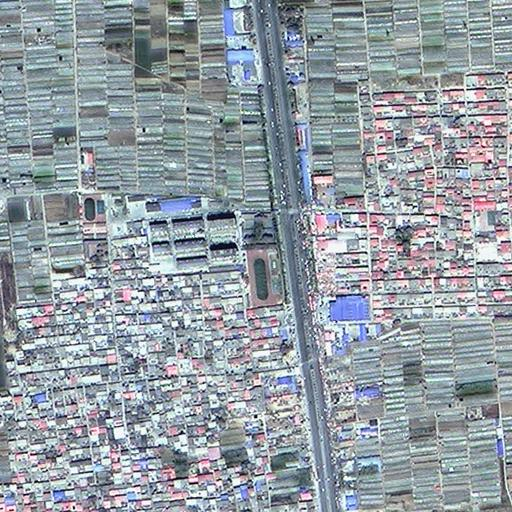school: (238, 207, 282, 308), (78, 188, 105, 263)
